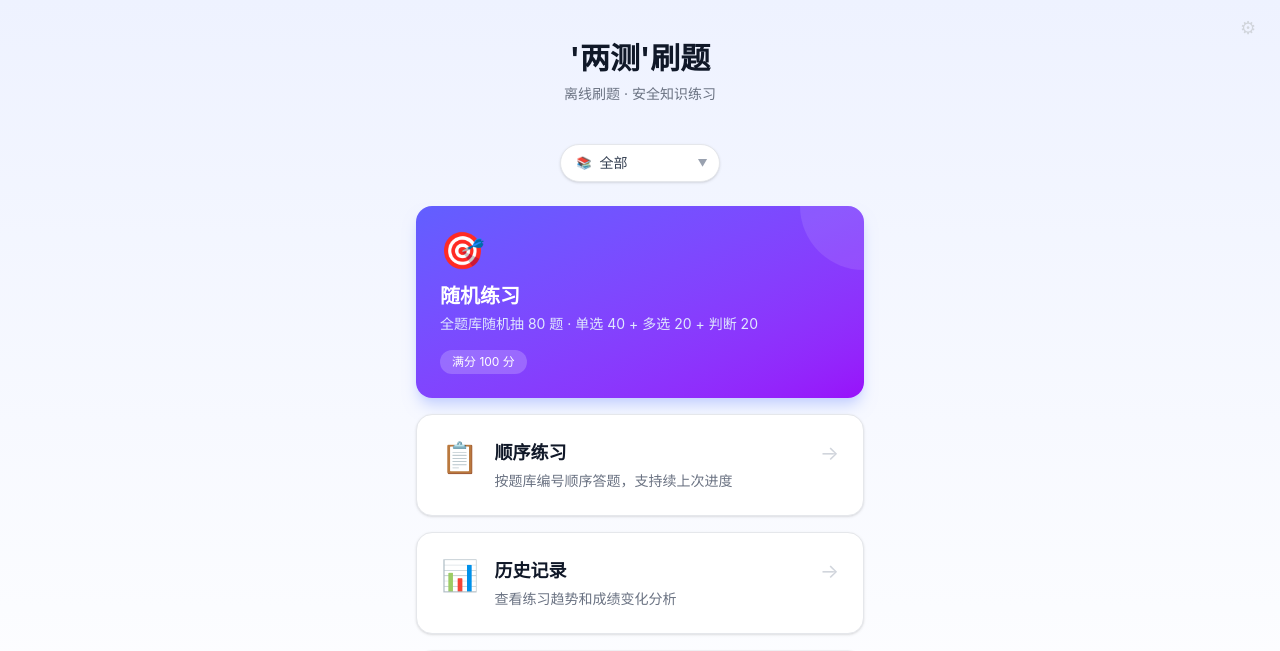
Scenario: 管理面板分类统计 › 打开管理面板时显示分类题目数量
This screenshot has width=1280, height=651.
// 点击齿轮按钮打开管理面板
Click the button named "题库管理".
click(1248, 28)  # box [1232,12,1264,44]
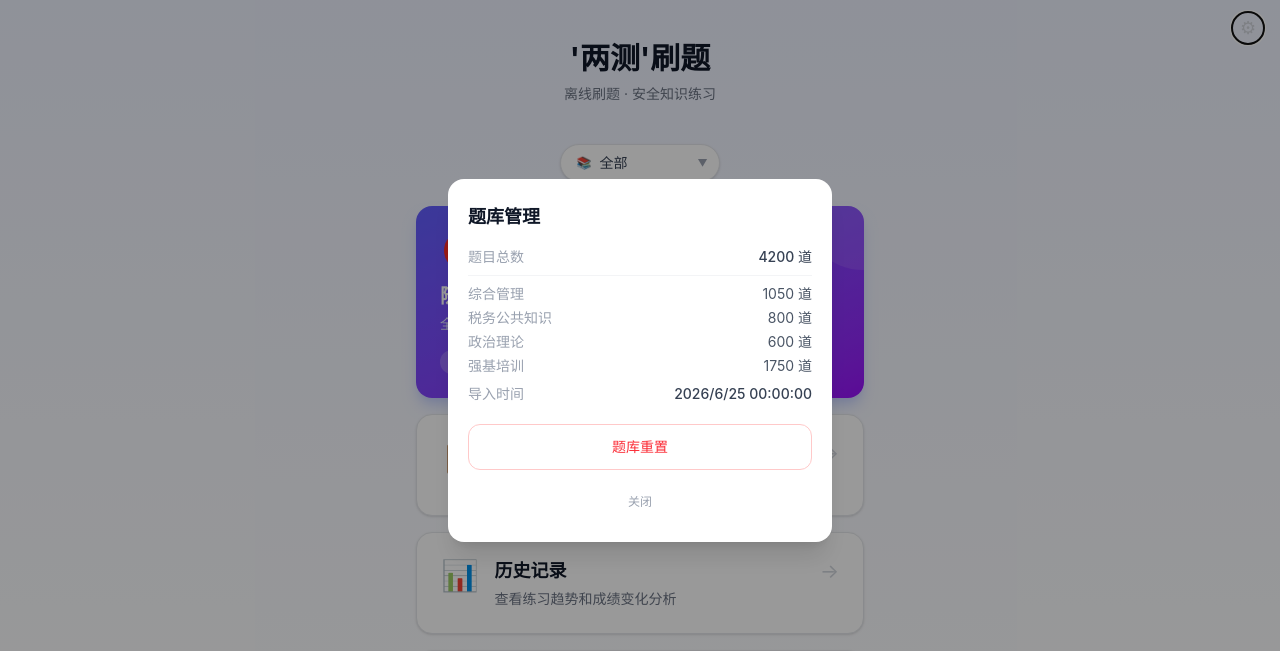
Now the text "4200 道" is shown, box [758,246,812,266]
Now the text "综合管理" is shown, box [468,284,524,304]
Now the text "1050 道" is shown, box [762,284,812,304]
